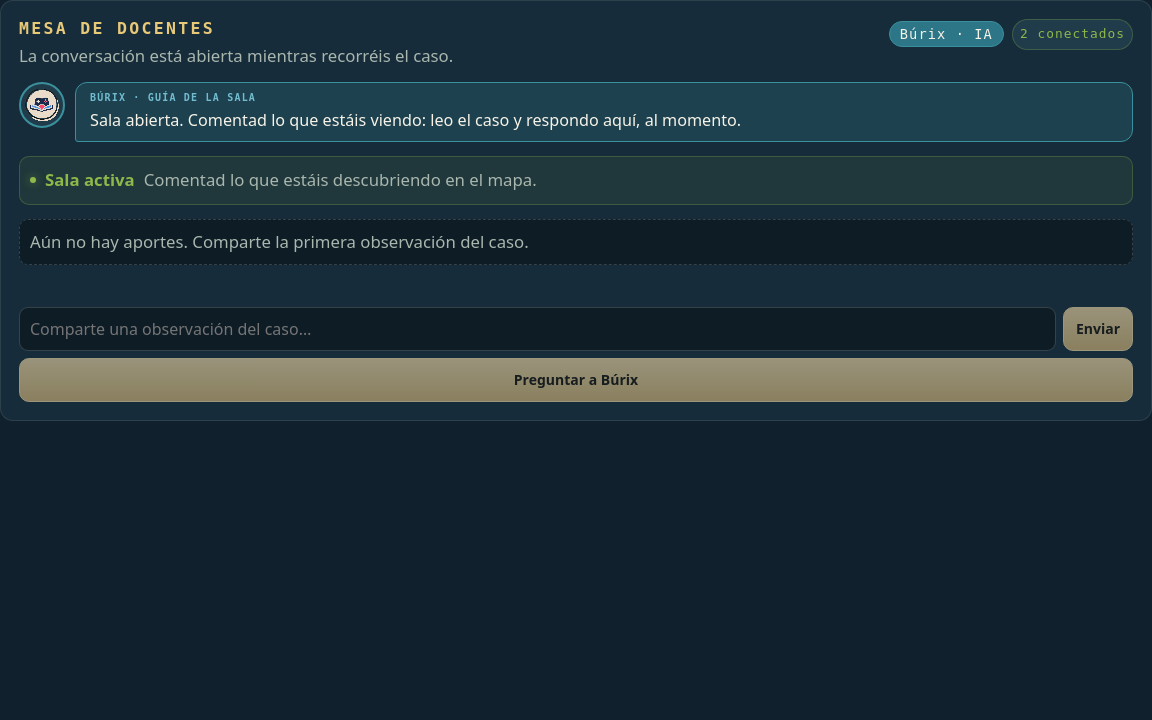
it: CaseRoom › opens the private Búrix analysis and shares it to the whole room
Click the button with aria-label "abrir análisis de búrix" at (946, 34), box left=889, top=21, right=1004, bottom=47
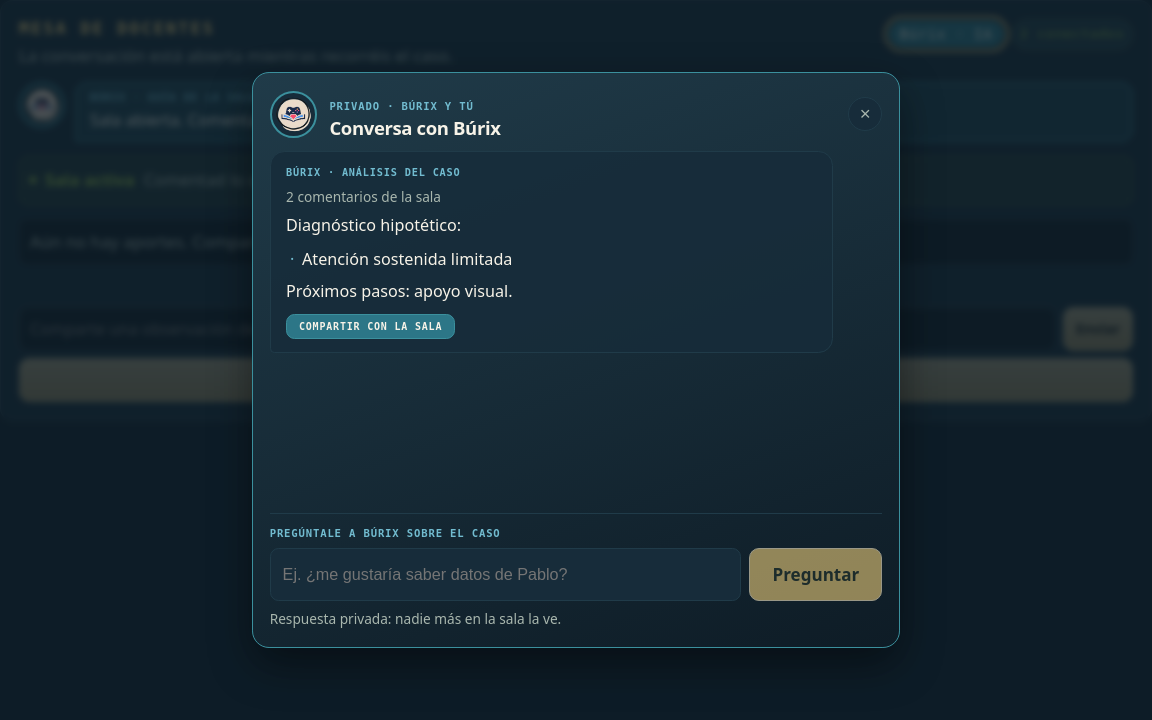
Expected: the text with test id "burix-meta" shows "2 comentarios", left=286, top=187, right=441, bottom=206
Expected: the element with test id "burix-analysis" shows "Diagnóstico hipotético", left=286, top=214, right=461, bottom=236
Click the button "Compartir con la sala" at (371, 327), box left=286, top=314, right=455, bottom=339
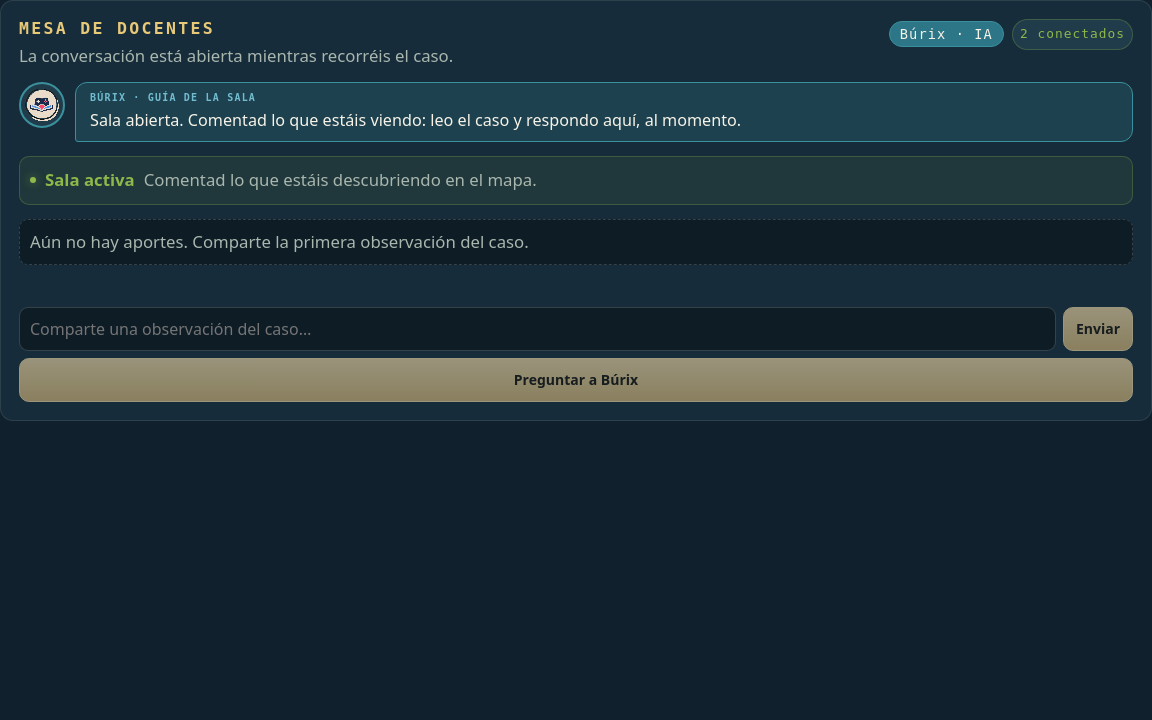
Expected: the heading "Conversa con Búrix" is gone
